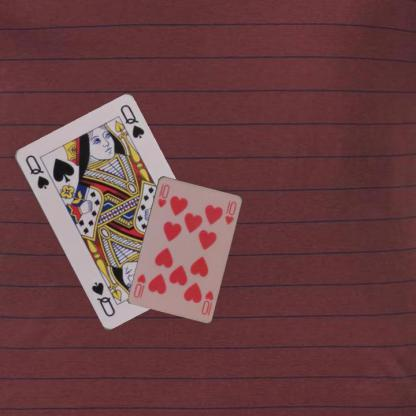10h: (155, 181, 171, 208), (199, 288, 214, 316)
Qs: (22, 152, 51, 191)
